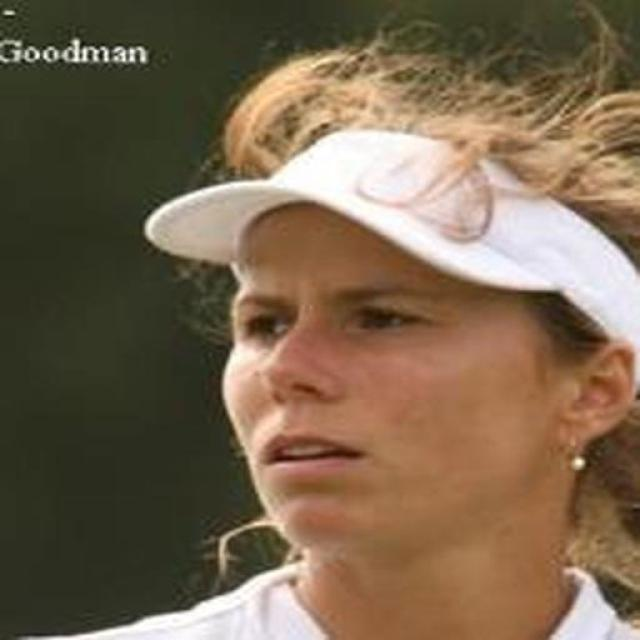bareface: (154, 92, 640, 562)
